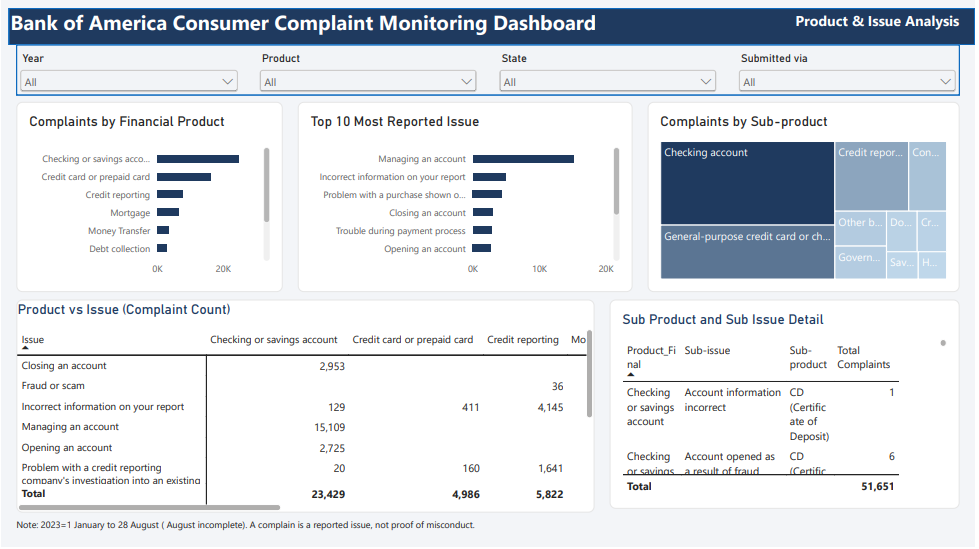

The page's visual inventory and layout, read from the dashboard file:
{"tool":"powerbi","page":{"name":"Product & Issue Analysis","canvas":[1280,720],"ordinal":1},"visuals":[{"type":"shape","box":[10.1,11.8,1269.9,48.7],"z":0},{"type":"textbox","box":[11.8,11.8,786.1,48.7],"z":1000},{"type":"shape","box":[20.2,60.5,1239.7,65.5],"z":2000},{"type":"slicer","fields":{"Values":["Data.Year"]},"box":[20,70,295.6,55],"z":3000},{"type":"slicer","fields":{"Values":["Data.Product_Final"]},"box":[335,70,295,55],"z":4000},{"type":"slicer","fields":{"Values":["Data.State"]},"box":[650,70,295,55],"z":5000},{"type":"slicer","fields":{"Values":["Data.Submitted via"]},"box":[965,70,295,55],"z":6000},{"type":"textbox","box":[20,680,1240,28],"z":15000},{"type":"textbox","box":[900,15,360,30],"z":15001},{"type":"clusteredBarChart","title":"Complaints by Financial Product","fields":{"Category":["Data.Product_Final"],"Y":["Data.Total Complaints"]},"box":[20,135,350,250],"z":15002},{"type":"clusteredBarChart","title":"Top 10 Most Reported Issue","fields":{"Category":["Data.Issue"],"Y":["Data.Total Complaints"]},"box":[390,135,440,250],"z":15003},{"type":"treemap","title":"Complaints by Sub-product","fields":{"Group":["Data.Sub-product"],"Values":["Data.Total Complaints"]},"box":[850,135,410,250],"z":15004},{"type":"pivotTable","title":"Product vs Issue (Complaint Count)","fields":{"Columns":["Data.Product_Final"],"Rows":["Data.Issue"],"Values":["Data.Total Complaints"]},"box":[20.2,395,760,280],"z":15005},{"type":"tableEx","title":"Sub Product and Sub Issue Detail","fields":{"Values":["Data.Product_Final","Data.Sub-issue","Data.Sub-product","Data.Total Complaints"]},"box":[800,395,460,275],"z":15006}]}

Visuals, with their boxes in screenshot pixels (x1, y1, x2, y2), scaled from the page's 1280x720 canvas onto the 979x549 screenshot:
shape: region(8, 9, 978, 46)
textbox: region(9, 9, 610, 46)
shape: region(15, 46, 964, 96)
slicer - Data.Year: region(15, 53, 241, 95)
slicer - Data.Product_Final: region(256, 53, 482, 95)
slicer - Data.State: region(497, 53, 723, 95)
slicer - Data.Submitted via: region(738, 53, 964, 95)
textbox: region(15, 518, 964, 540)
textbox: region(688, 11, 964, 34)
"Complaints by Financial Product" clusteredBarChart: region(15, 103, 283, 294)
"Top 10 Most Reported Issue" clusteredBarChart: region(298, 103, 635, 294)
"Complaints by Sub-product" treemap: region(650, 103, 964, 294)
"Product vs Issue (Complaint Count)" pivotTable: region(15, 301, 597, 515)
"Sub Product and Sub Issue Detail" tableEx: region(612, 301, 964, 511)
